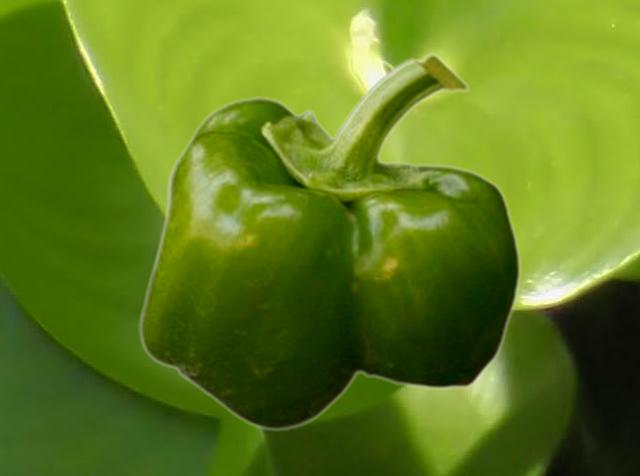bell_pepper: (138, 53, 520, 431)
